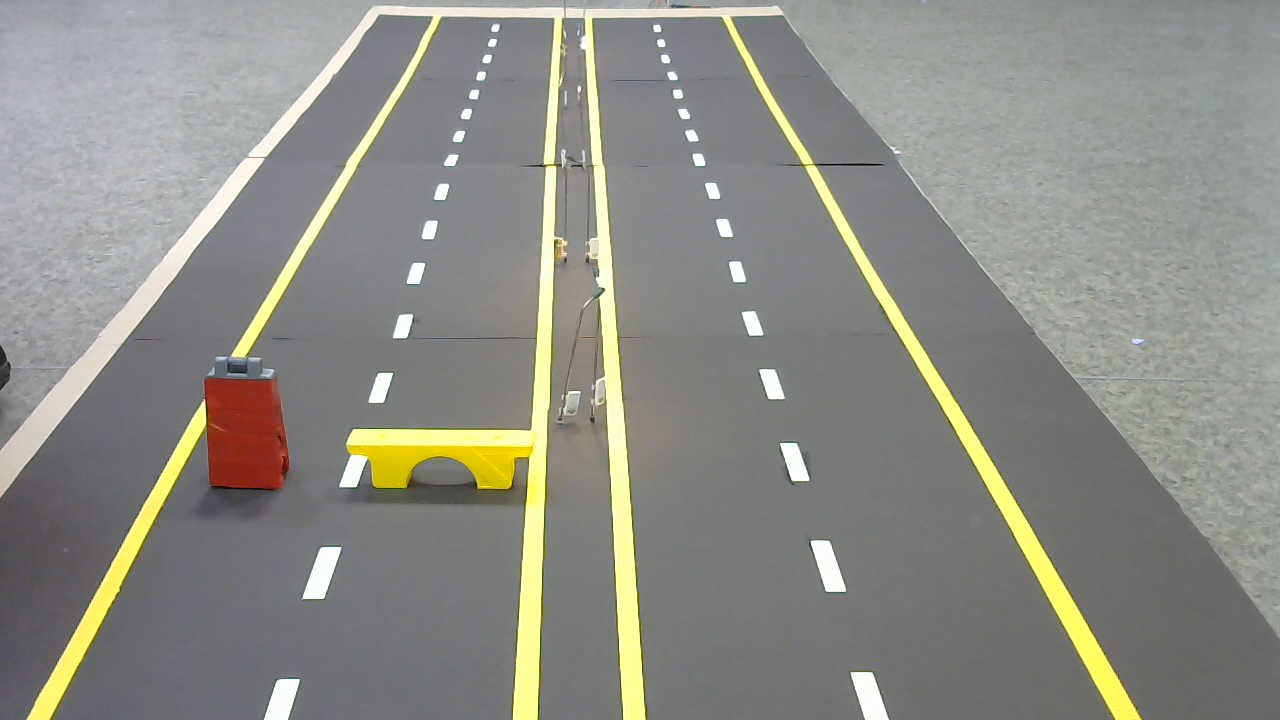accident: (197, 351, 292, 495)
emergency_situation: (343, 420, 538, 497)
